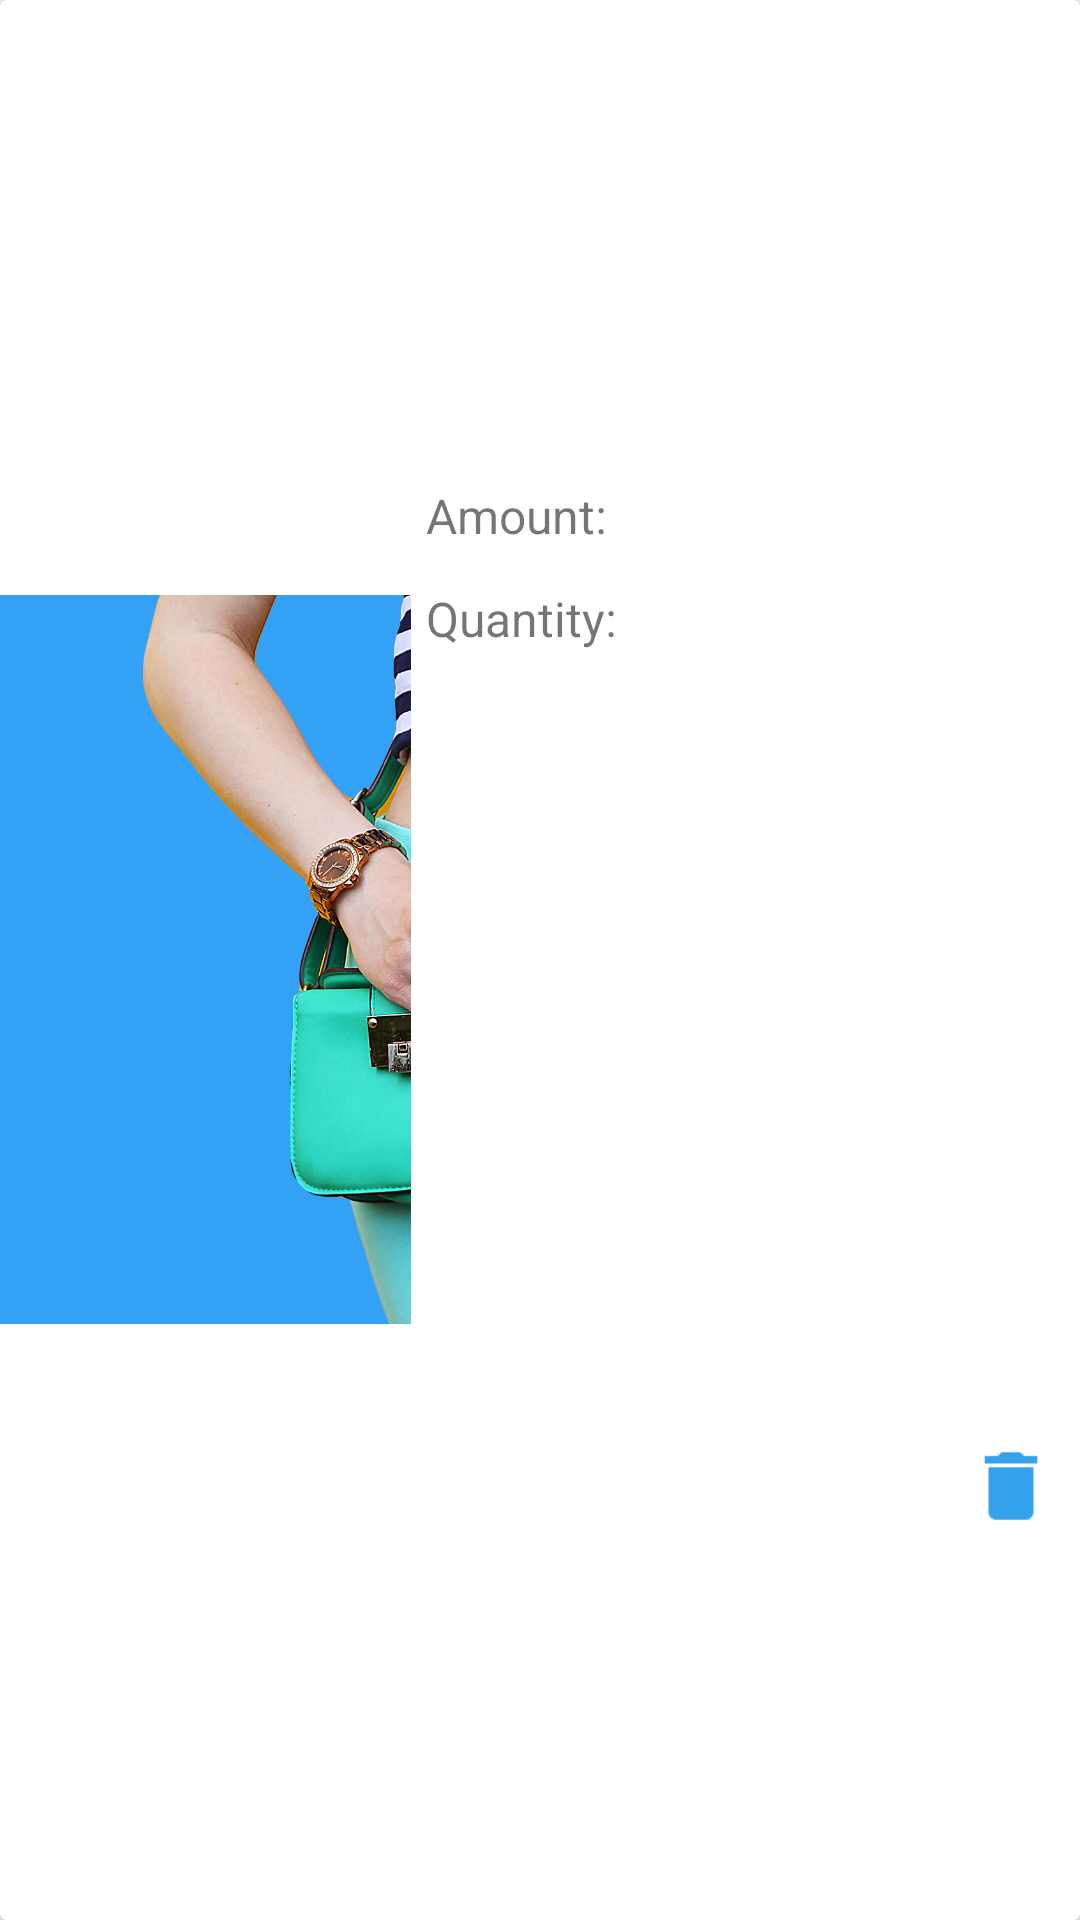

Named icons in this screenshot (1080 × 1920) and their centers, [x,y]:
delete: [1011,1486]
